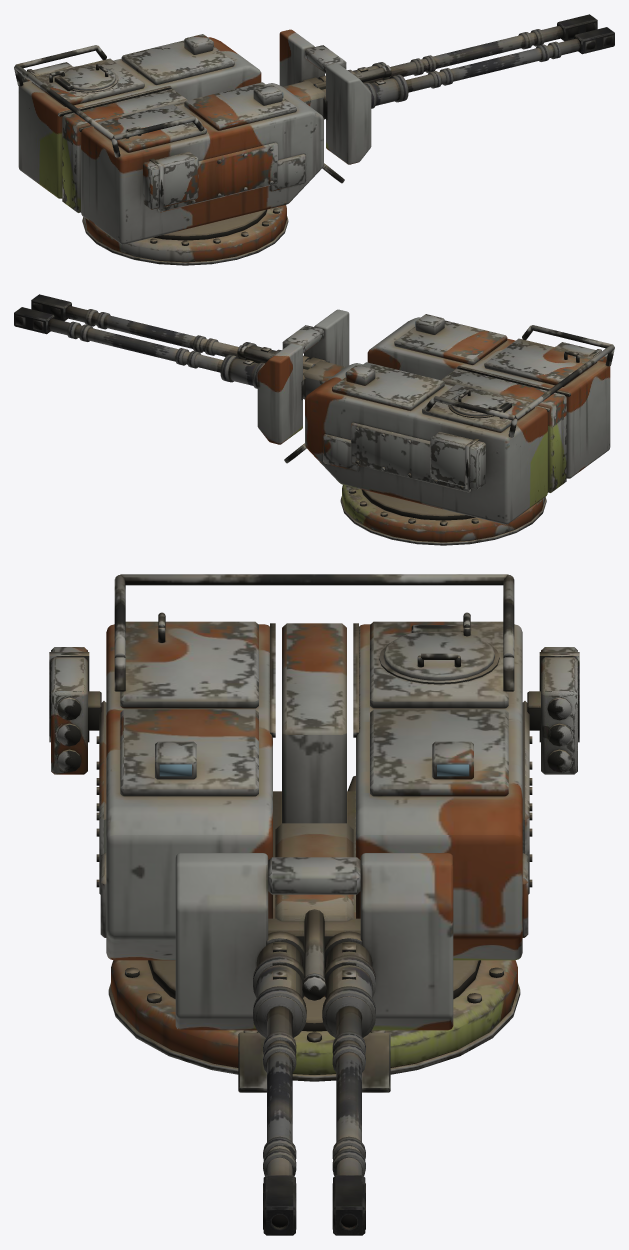
The model's file is turret_kit_t2_rust.glb.
The picture shows the model from 3 angles, top to bottom: view 1: azimuth 30°, elevation 25°; view 2: azimuth 150°, elevation 25°; view 3: azimuth 270°, elevation 25°; orthographic projection. The views are drawn at different scales.
Visible parts, largest first — view 1: turret_twin_t2, guns, pods; view 2: turret_twin_t2, guns, pods; view 3: turret_twin_t2, guns, pods.
Part boxes in pixels (<box>): turret_twin_t2: <box>14,29,371,265</box>; guns: <box>283,14,614,119</box>; pods: <box>21,62,198,209</box>; turret_twin_t2: <box>257,309,614,545</box>; guns: <box>14,294,345,399</box>; pods: <box>430,342,607,489</box>; turret_twin_t2: <box>96,574,532,1092</box>; guns: <box>253,823,375,1235</box>; pods: <box>49,647,579,774</box>.
Bounding box in the file's own units: 2.7 × 0.722 × 1.15.
4 materials, 3 textured.
